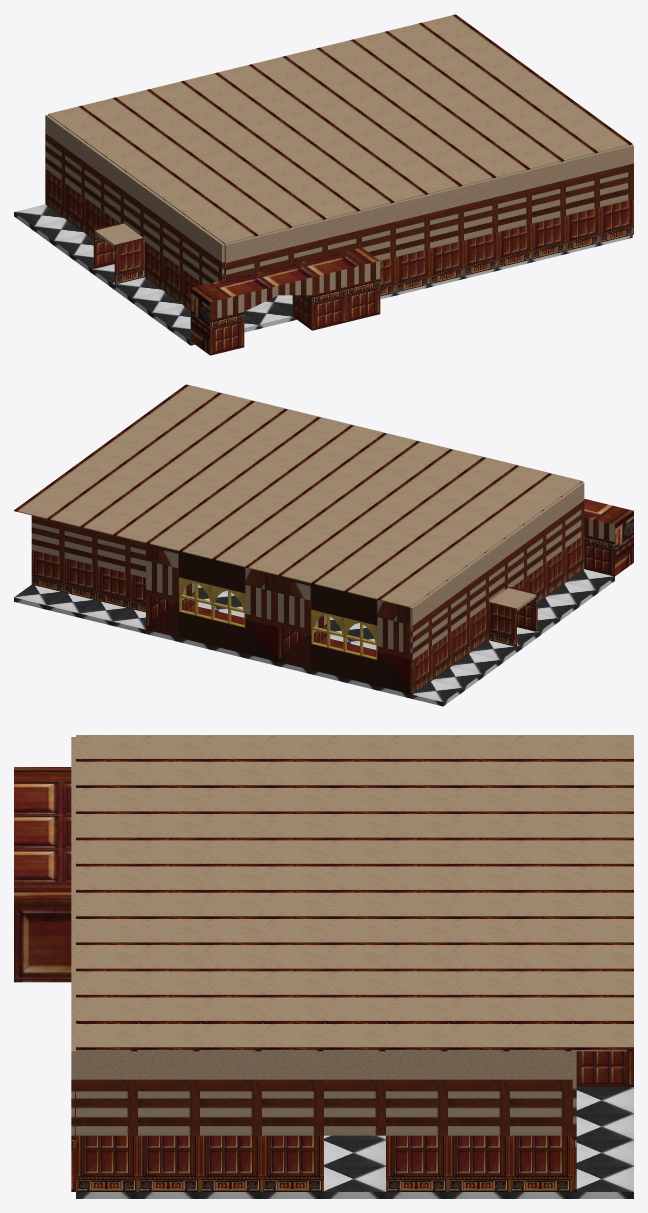
Rendered from ConcertRoom.fbx.
3 views of the same model, one above another, from view 1: azimuth 30°, elevation 25°; view 2: azimuth 150°, elevation 25°; view 3: azimuth 270°, elevation 25° (orthographic). The views are drawn at different scales.
Parts seen in each view (by area): view 1: ConcertRoomCeiling, HallWallB0TunnelRight, ConcertRoomWallB1Front, ConcertRoomWallB0Front, ConcertRoomWallB2Front, ConcertRoomFloorTiles, ConcertRoomWallB1Left, ConcertRoomWallB2Left, ConcertRoomWallB1Front.001, ConcertRoomWallDoor, ConcertRoomWallB0Left.001, ConcertRoomWallB0Left; view 2: ConcertRoomCeiling, ConcertRoomFloorTiles, ConcertRoomWallWindow.002, ConcertRoomWallWindow.001, ConcertRoomWallB1Left, ConcertRoomWallB0Back, ConcertRoomWallB1Back, ConcertRoomWallB2Left, HallWallB0TunnelRight, ConcertRoomWallB0Left.001, ConcertRoomWallDoor, ConcertRoomWallB0Left (+5 smaller); view 3: ConcertRoomCeiling, ConcertRoomWallB1Right, ConcertRoomWallB2Right, ConcertRoomWallB0Right.001, ConcertRoomFloorTiles, HallWallB0TunnelRight, ConcertRoomWallB0Right, ConcertRoomWallWindow.001, ConcertRoomWallB2Front.
Boxes of the visible parts, x1,y1,x2,y2 form: ConcertRoomCeiling: (48, 14, 632, 243); HallWallB0TunnelRight: (190, 247, 380, 355); ConcertRoomWallB1Front: (362, 163, 633, 260); ConcertRoomWallB0Front: (380, 199, 633, 296); ConcertRoomWallB2Front: (224, 144, 633, 262); ConcertRoomFloorTiles: (14, 204, 632, 345); ConcertRoomWallB1Left: (45, 133, 224, 284); ConcertRoomWallB2Left: (45, 115, 224, 262); ConcertRoomWallB1Front.001: (224, 230, 361, 280); ConcertRoomWallDoor: (93, 222, 144, 284); ConcertRoomWallB0Left.001: (45, 169, 119, 239); ConcertRoomWallB0Left: (145, 242, 203, 310); ConcertRoomCeiling: (14, 384, 581, 607); ConcertRoomFloorTiles: (14, 569, 614, 706); ConcertRoomWallWindow.002: (278, 575, 410, 693); ConcertRoomWallWindow.001: (146, 543, 278, 661); ConcertRoomWallB1Left: (410, 500, 584, 659); ConcertRoomWallB0Back: (31, 550, 145, 612); ConcertRoomWallB1Back: (31, 515, 145, 577); ConcertRoomWallB2Left: (410, 482, 584, 625); HallWallB0TunnelRight: (584, 499, 633, 576); ConcertRoomWallB0Left.001: (410, 605, 487, 694); ConcertRoomWallDoor: (487, 587, 537, 646); ConcertRoomWallB0Left: (512, 535, 584, 602); ConcertRoomCeiling: (76, 735, 633, 1051); ConcertRoomWallB1Right: (76, 1079, 571, 1135); ConcertRoomWallB2Right: (76, 1051, 571, 1079); ConcertRoomWallB0Right.001: (76, 1135, 323, 1191); ConcertRoomFloorTiles: (76, 1087, 633, 1198); HallWallB0TunnelRight: (14, 767, 71, 982); ConcertRoomWallB0Right: (386, 1135, 571, 1191); ConcertRoomWallWindow.001: (576, 1051, 633, 1086); ConcertRoomWallB2Front: (71, 737, 75, 1079).
Size of the model in its own units: 2600 by 530 by 2000.
